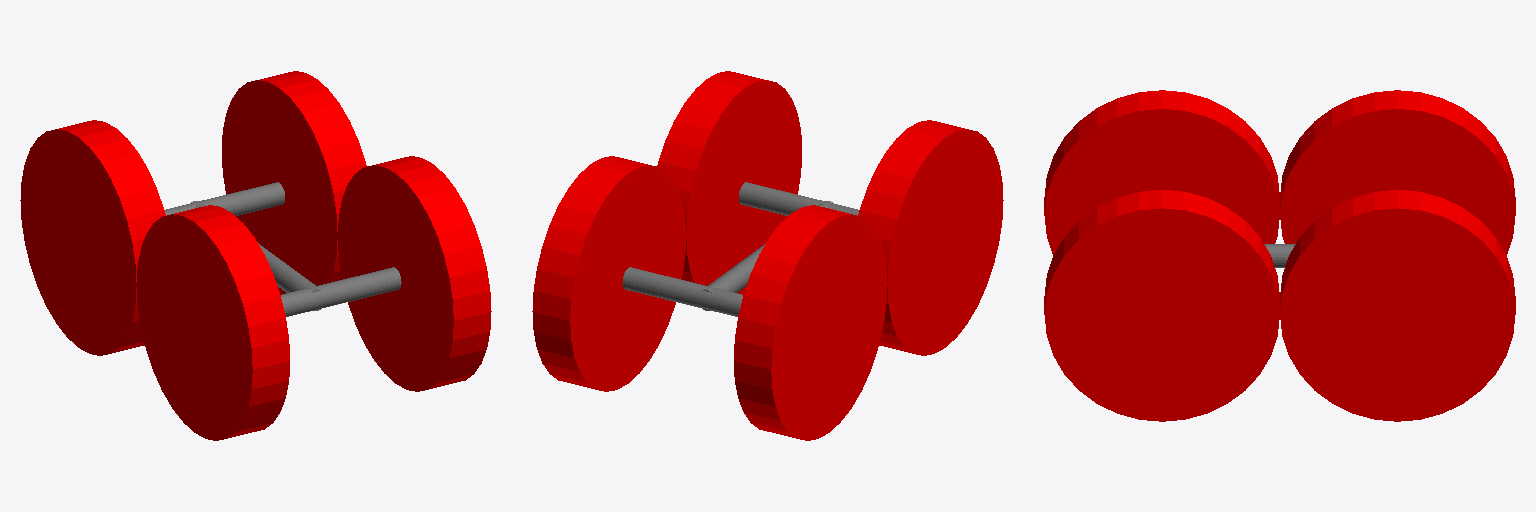
robot.urdf — MockBot-0.2011.09.21.1000:
<?xml version="1.0"?>
<robot name="MockBot-0.2011.09.21.1000">

	<link name="base_link">
		<visual>
			<geometry>
				<cylinder length="0.42" radius="0.02"/>
			</geometry>
			<origin rpy="1.57075 0 0" xyz="0 0 0"/>
			<material name="grey">
				<color rgba=".5 .5 .5 1"/>
			</material>
		</visual>
	</link>

	<link name="f_axle">
		<visual>
			<geometry>
				<cylinder length="0.42" radius="0.02"/>
			</geometry>
			<origin rpy="0 1.57075 0" xyz="0 0.2 0"/>
			<material name="grey">
				<color rgba=".5 .5 .5 1"/>
			</material>
		</visual>
	</link>

	<link name="r_axle">
		<visual>
			<geometry>
				<cylinder length="0.42" radius="0.02"/>
			</geometry>
			<origin rpy="0 1.57075 0" xyz="0 -0.2 0"/>
			<material name="grey">
				<color rgba=".5 .5 .5 1"/>
			</material>
		</visual>
	</link>

        <link name="lf_wheel">
                <visual>
                        <geometry>
                                <cylinder length="0.075" radius="0.20"/>
                        </geometry>
			<origin rpy="0 1.57075 0" xyz="-0.2 -0.2 0"/>
			<material name="red">
				<color rgba="1 0 0 1"/>
			</material>
                </visual>
        </link>

        <link name="rf_wheel">
                <visual>
                        <geometry>
                                <cylinder length="0.075" radius="0.20"/>
                        </geometry>
			<origin rpy="0 1.57075 0" xyz="0.2 -0.2 0"/>
			<material name="red">
				<color rgba="1 0 0 1"/>
			</material>
                </visual>
        </link>
        
	<link name="lr_wheel">
                <visual>
                        <geometry>
                                <cylinder length="0.075" radius="0.20"/>
                        </geometry>
			<origin rpy="0 1.57075 0" xyz="0.2 0.2 0"/>
			<material name="red">
				<color rgba="1 0 0 1"/>
			</material>
                </visual>
        </link>

	<link name="rr_wheel">
                <visual>
                        <geometry>
                                <cylinder length="0.075" radius="0.20"/>
                        </geometry>
			<origin rpy="0 1.57075 0" xyz="-0.2 0.2 0"/>
			<material name="red">
				<color rgba="1 0 0 1"/>
			</material>
                </visual>
        </link>

	<joint name="f_axle_base_link" type="fixed">
		<parent link="base_link"/>
		<child link="f_axle"/>
	</joint>
	
	<joint name="r_axle_base_link" type="fixed">
		<parent link="base_link"/>
		<child link="r_axle"/>
	</joint>

	<joint name="f_axle_lf_wheel" type="fixed">
		<parent link="f_axle"/>
		<child link="lf_wheel"/>
	</joint>

	<joint name="f_axle_rf_wheel" type="fixed">
		<parent link="f_axle"/>
		<child link="rf_wheel"/>
	</joint>

	<joint name="r_axle_lr_wheel" type="fixed">
		<parent link="r_axle"/>
		<child link="lr_wheel"/>
	</joint>
	
	<joint name="r_axle_rr_wheel" type="fixed">
		<parent link="r_axle"/>
		<child link="rr_wheel"/>
	</joint>

</robot>

--- Render facts (derived) ---
The picture shows the robot from 3 angles, left to right: view 1: azimuth 30°, elevation 25°; view 2: azimuth 150°, elevation 25°; view 3: azimuth 270°, elevation 25°; orthographic projection.
Robot: MockBot-0.2011.09.21.1000 — 7 links, 6 joints (6 fixed); root link base_link; default pose: all joints at 0.
Visible links, largest first — view 1: lf_wheel, rf_wheel, rr_wheel, lr_wheel, r_axle, f_axle, base_link; view 2: rr_wheel, lr_wheel, lf_wheel, rf_wheel, f_axle, r_axle, base_link; view 3: rf_wheel, lr_wheel, lf_wheel, rr_wheel.
Link boxes in pixels (x1,y1,x2,y2): lf_wheel: (137,205,289,440); rf_wheel: (338,156,491,391); rr_wheel: (20,120,165,355); lr_wheel: (222,71,366,294); r_axle: (281,267,401,316); f_axle: (165,182,284,215); base_link: (191,201,320,310); rr_wheel: (734,205,886,440); lr_wheel: (532,156,685,391); lf_wheel: (858,120,1003,355); rf_wheel: (657,71,801,294); f_axle: (622,267,742,316); r_axle: (739,182,858,215); base_link: (703,201,832,310); rf_wheel: (1044,190,1279,421); lr_wheel: (1280,190,1515,421); lf_wheel: (1044,90,1279,254); rr_wheel: (1280,90,1515,254).
Bounding box of the posed robot: 0.475 × 0.8 × 0.4 m (x, y, z).
Geometry: primitives only (box / cylinder / sphere), no mesh files.